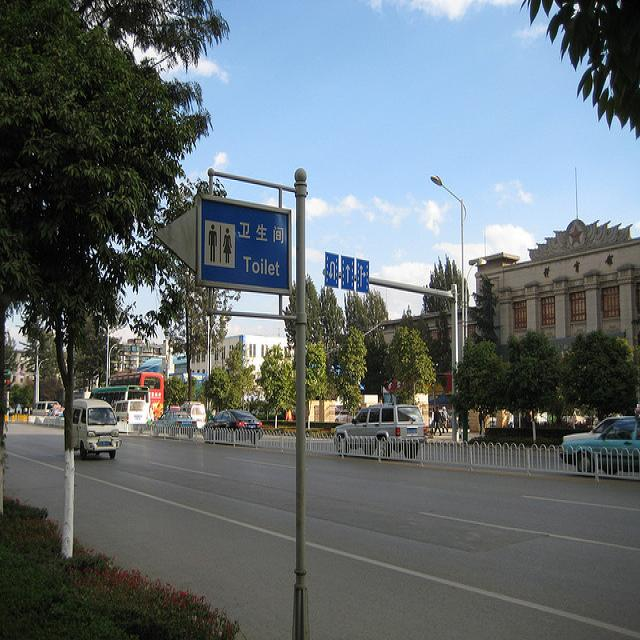Vehicle: (564, 420, 640, 476), (106, 365, 169, 422), (334, 406, 426, 442), (88, 385, 158, 429), (71, 395, 119, 459), (563, 415, 636, 445), (202, 408, 264, 431), (153, 411, 197, 438), (32, 401, 58, 416), (191, 404, 207, 422), (46, 407, 65, 417)
